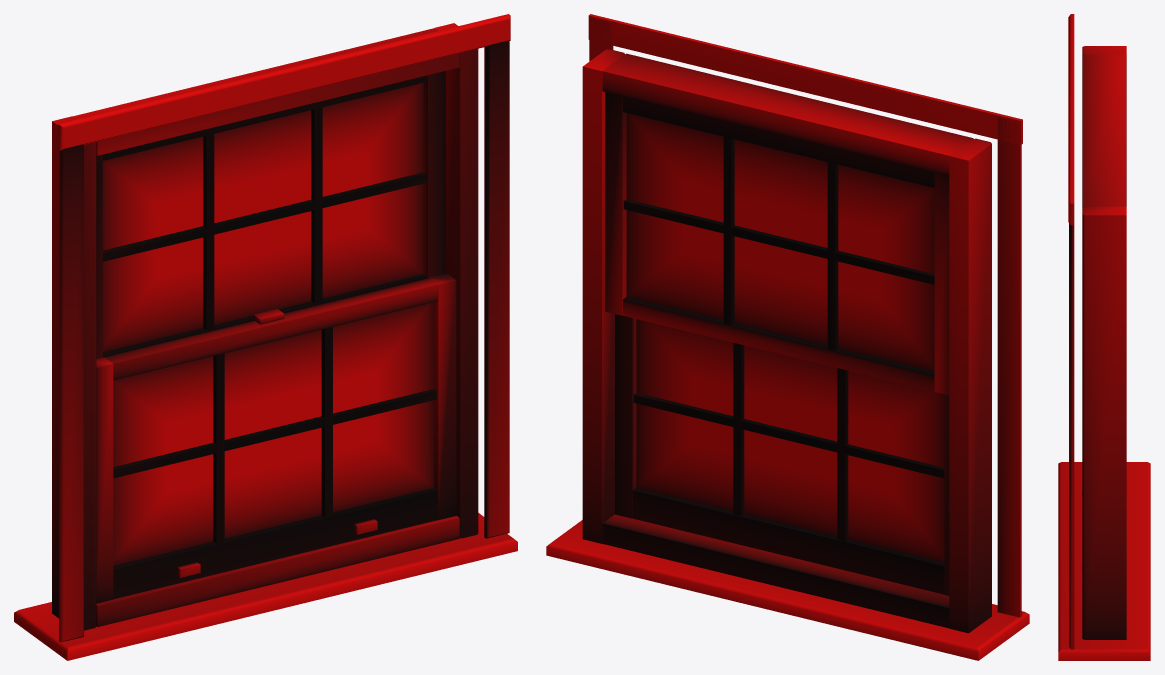
The model's file is CI_Shell_Window_Sash.glb.
The picture shows the model from 3 angles, left to right: view 1: azimuth 30°, elevation 25°; view 2: azimuth 150°, elevation 25°; view 3: azimuth 270°, elevation 25°; orthographic projection. The views are drawn at different scales.
Visible parts, largest first — view 1: CI_Shell_Window_Sash; view 2: CI_Shell_Window_Sash; view 3: CI_Shell_Window_Sash.
Part boxes in pixels (<box>): CI_Shell_Window_Sash: <box>14,14,517,660</box>; CI_Shell_Window_Sash: <box>546,14,1029,660</box>; CI_Shell_Window_Sash: <box>1058,14,1150,660</box>.
Bounding box in the file's own units: 1.12 × 1.26 × 0.23.
